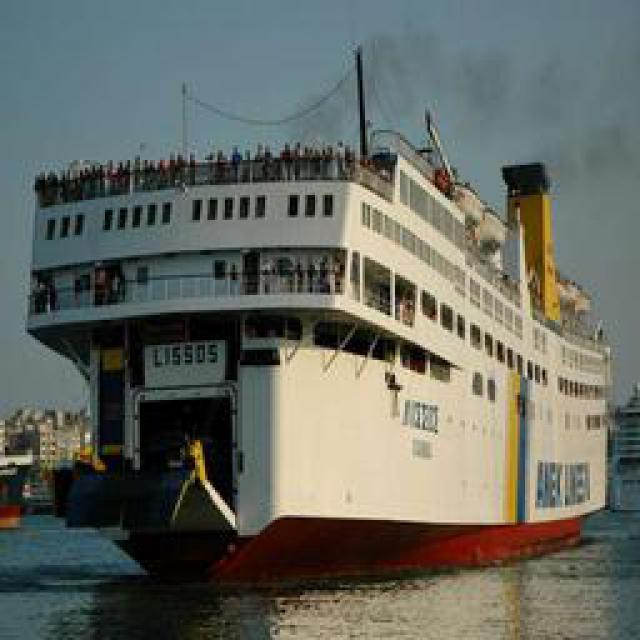Ship: (6, 44, 640, 597)
